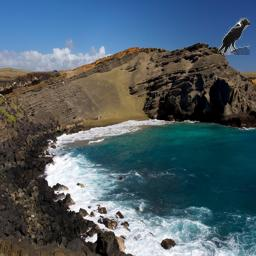Crow: (216, 17, 250, 55)
